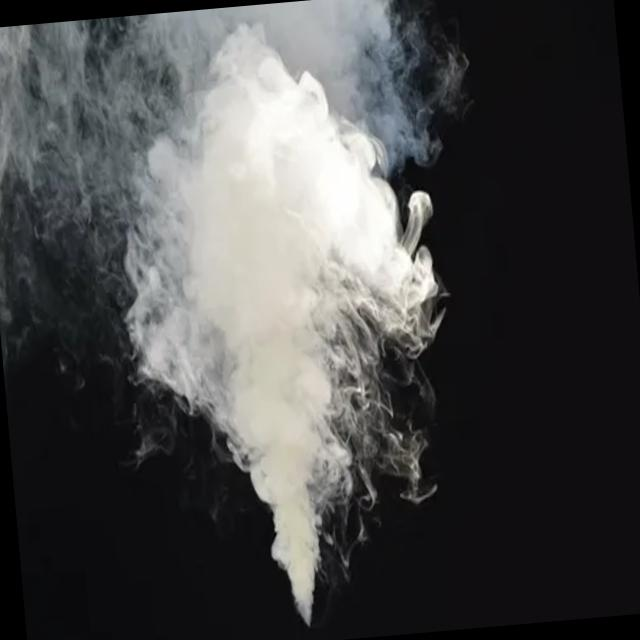Smoke: (92, 0, 517, 636)
